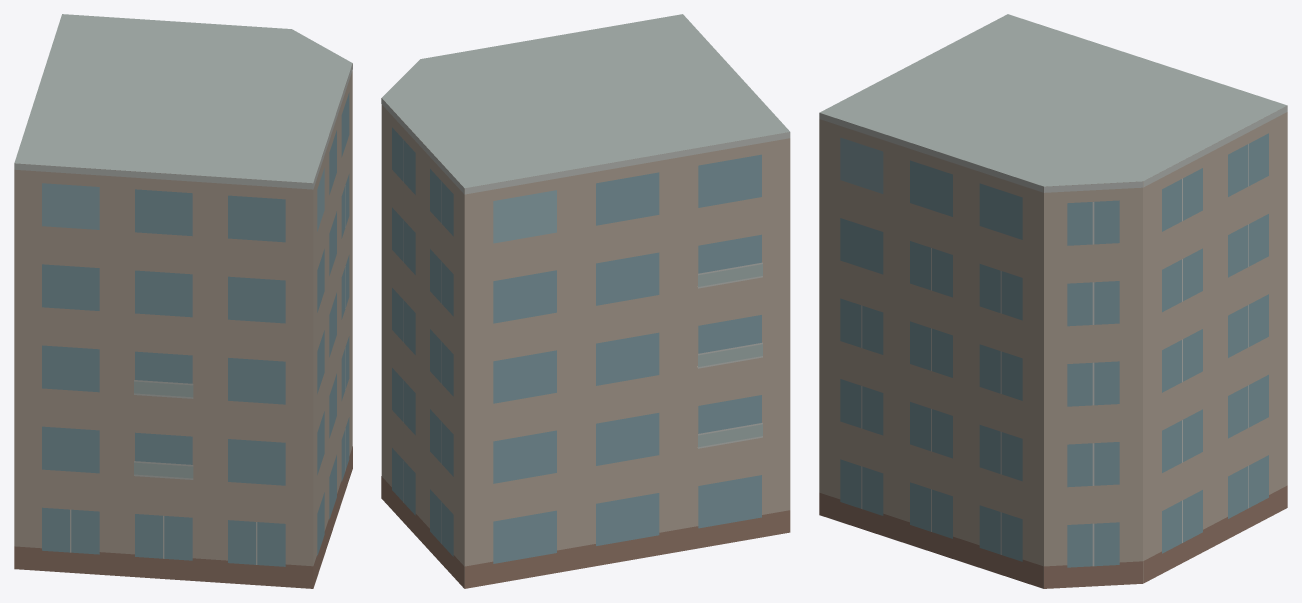
File: survey-upis-32888758.glb
3 renders of one model, left to right at view 1: azimuth 30°, elevation 25°; view 2: azimuth 150°, elevation 25°; view 3: azimuth 270°, elevation 25°, orthographic.
Parts seen in each view (by area): view 1: survey-upis-32888758.tmp; view 2: survey-upis-32888758.tmp; view 3: survey-upis-32888758.tmp.
Part boxes in pixels (x1,y1,x2,y2): survey-upis-32888758.tmp: (14, 14, 352, 588); survey-upis-32888758.tmp: (381, 14, 790, 588); survey-upis-32888758.tmp: (819, 14, 1287, 588).
Size of the model in its own units: 14.36 by 15.6 by 16.47.
